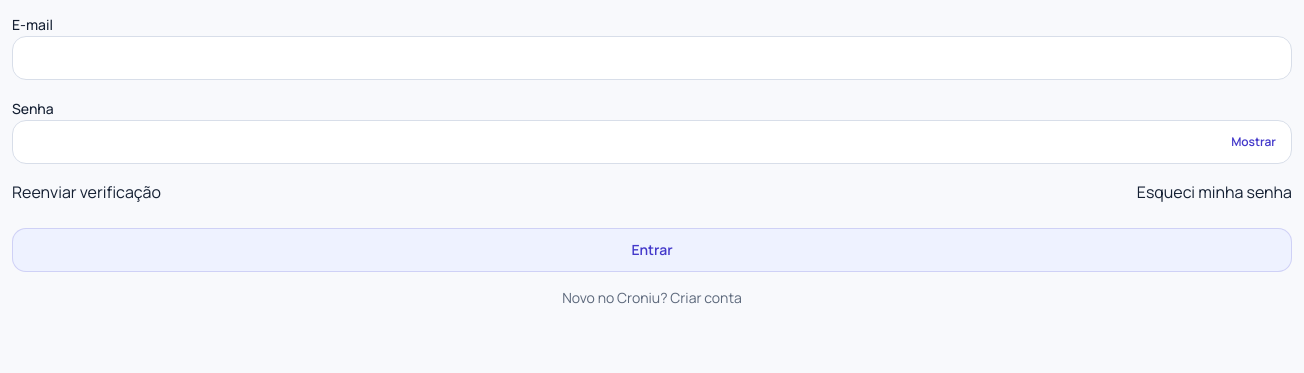
Test case: Auth forms › links unverified login to verify-email
Check: the password field labelled "Senha" is empty, box [12,120,1292,164]
Type "a@b.com" into the field labelled "E-mail". click: (652, 58)
box: [12,36,1292,80]
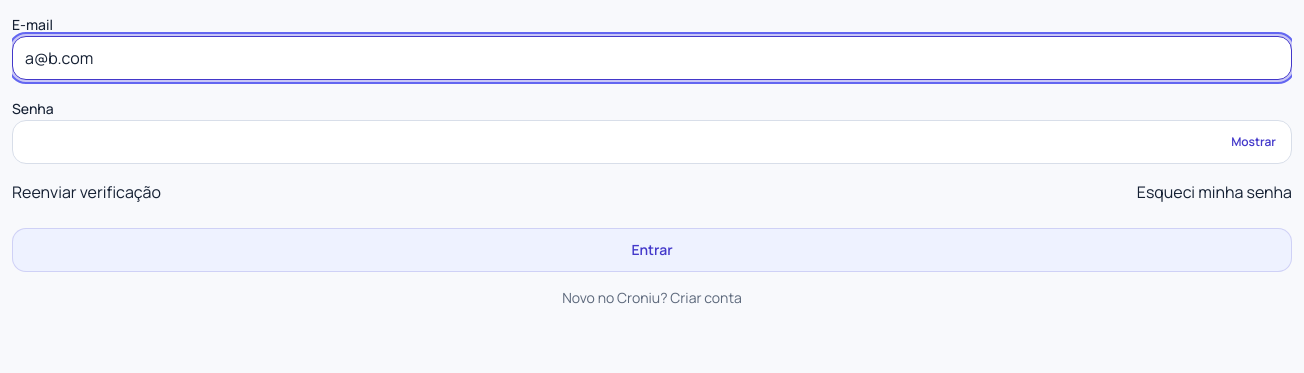
Type "senha12345" into the password field labelled "Senha". click: (652, 142)
box: [12,120,1292,164]
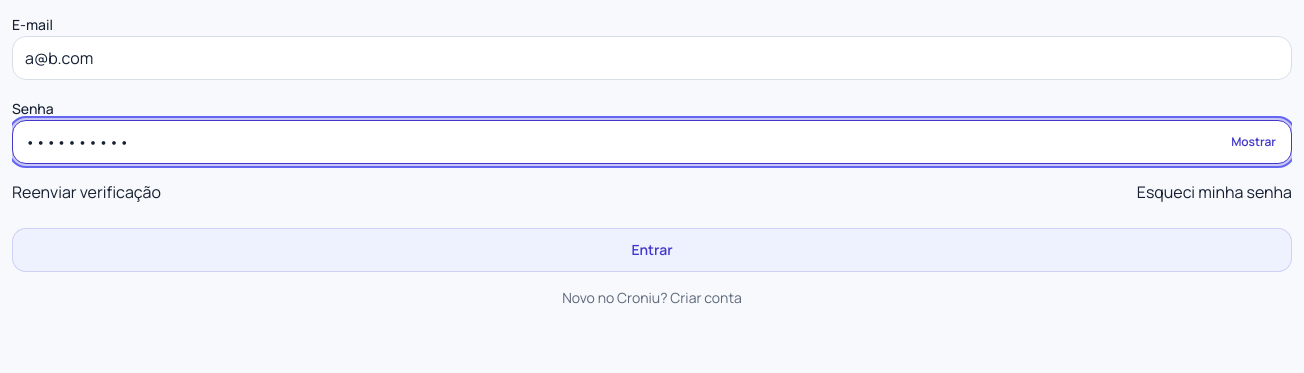
Click the button "Entrar". click: (652, 250)
box: [12,228,1292,272]
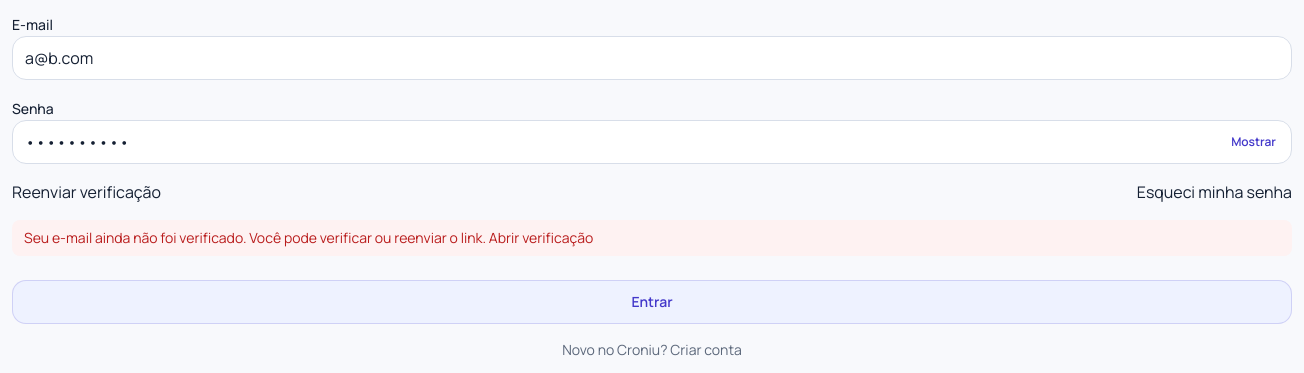
Check: the message shows "ainda não foi verificado", box [24,228,486,247]
